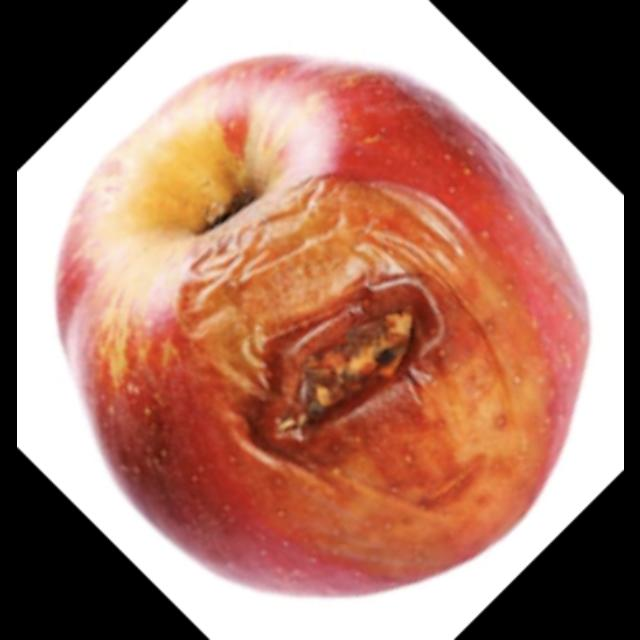Apel Tidak Segar: (37, 29, 599, 631)
